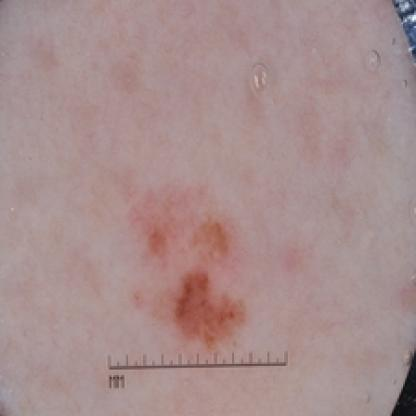Skin_Cancer-Malignant: (148, 222, 250, 348)
